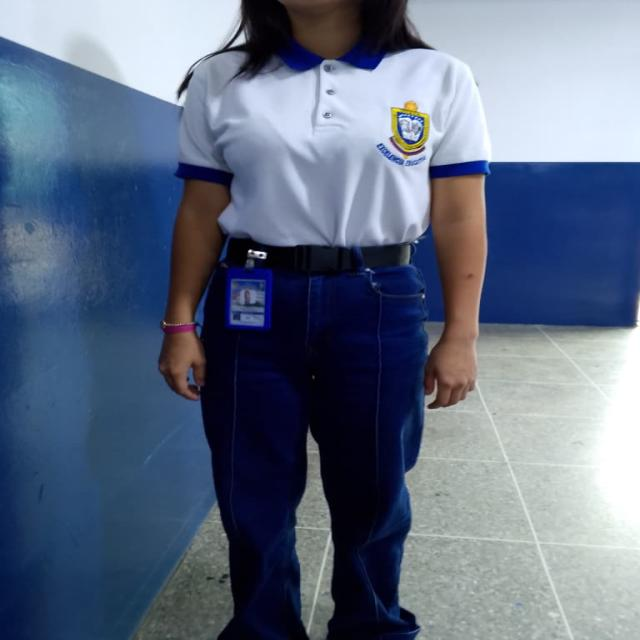carnet: (231, 278, 267, 326)
pantalon_oscuro: (197, 261, 431, 637)
uniforme_superior: (172, 42, 493, 249)
